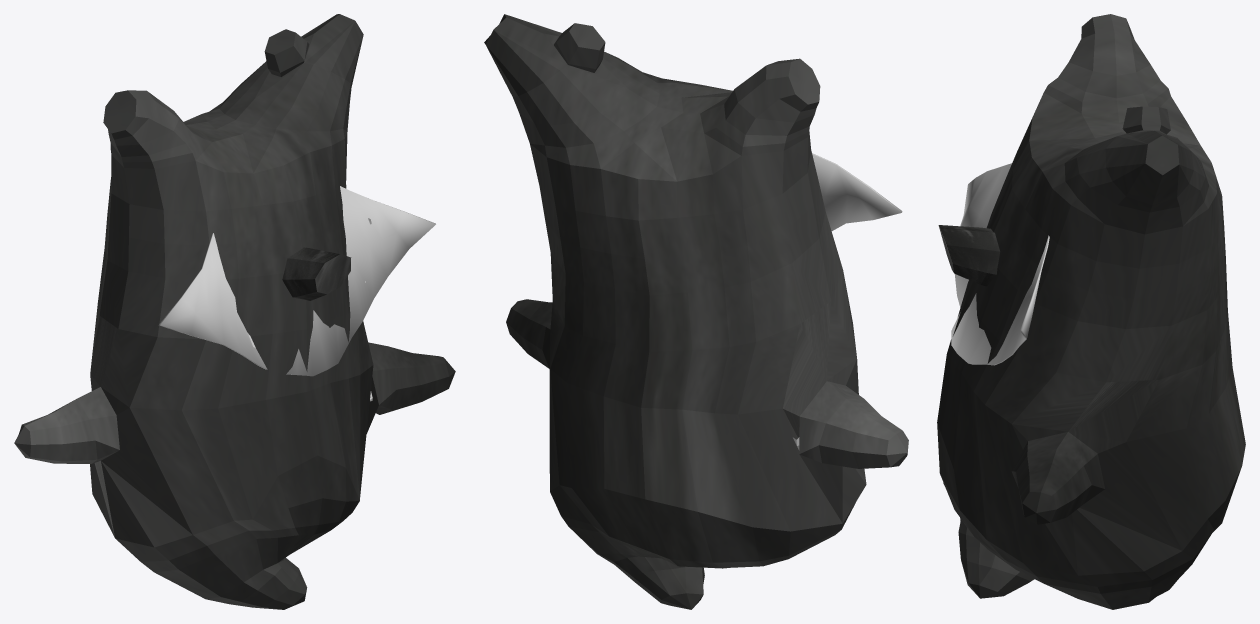
Rendered from frame_0020.obj.
3 renders of one model, left to right at view 1: azimuth 30°, elevation 25°; view 2: azimuth 150°, elevation 25°; view 3: azimuth 270°, elevation 25°, orthographic. The views are drawn at different scales.
Visible parts, largest first — view 1: korok, leaf, nose; view 2: korok, leaf; view 3: korok, leaf, nose.
Part boxes in pixels (x1,y1,x2,y2): korok: (14,14,455,609); leaf: (159,186,435,376); nose: (282,247,351,300); korok: (484,14,908,609); leaf: (812,153,902,230); korok: (937,14,1245,609); leaf: (951,163,1049,365); nose: (938,225,1000,286).
Size of the model in its own units: 1.79 by 2.14 by 1.12.
